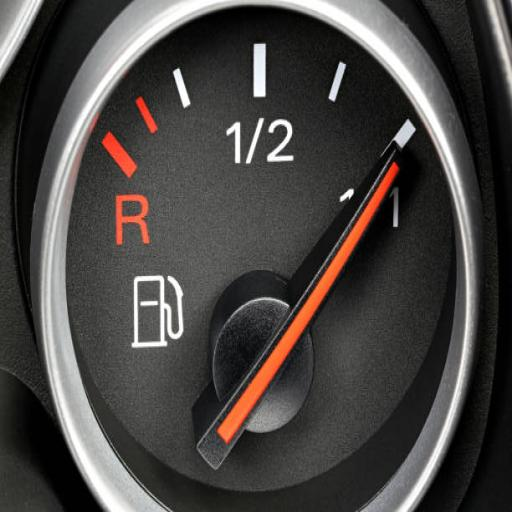empty: (113, 179, 152, 253)
fuel_icon: (126, 272, 186, 352)
full: (391, 185, 406, 231)
guage_area: (39, 0, 484, 512)
needle_center: (210, 270, 332, 441)
needle_tip: (372, 139, 413, 210)
